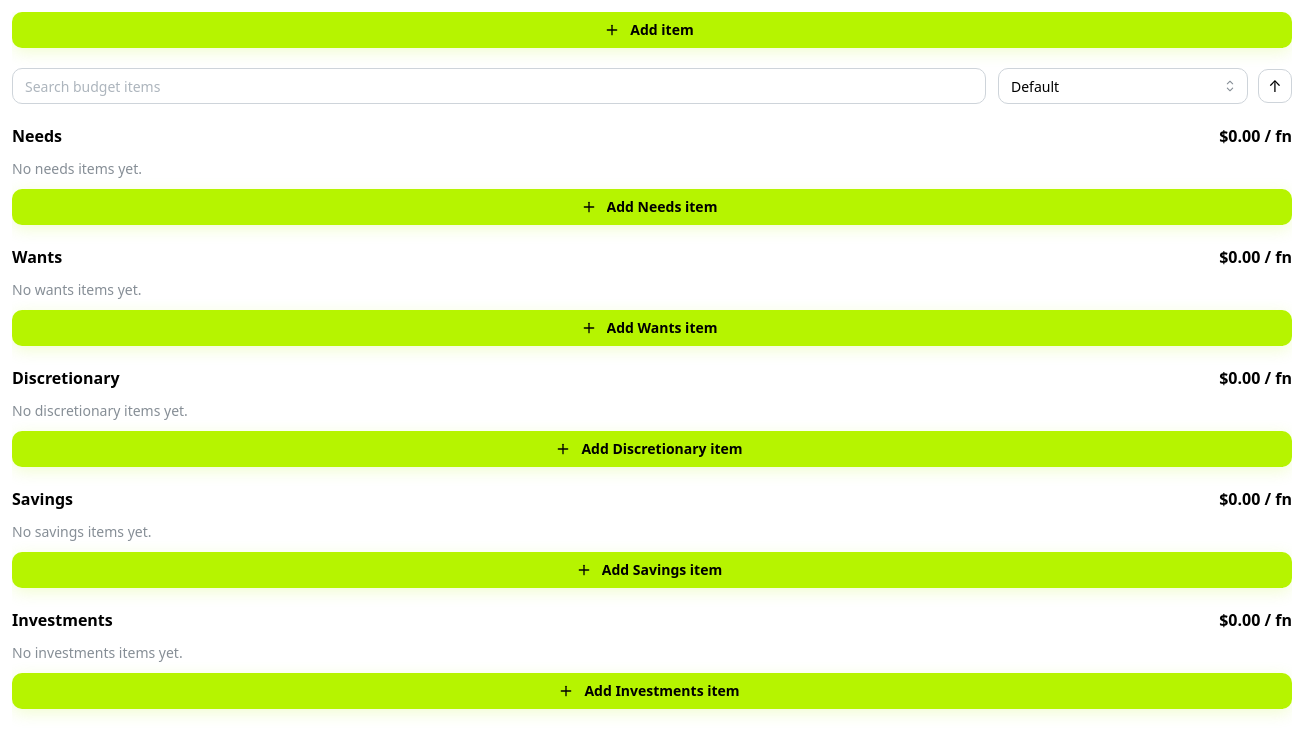
Scenario: BudgetLineList › opens a per-group add form scoped to that group
What coordinates should you click on to do the following:
click the button "Add Wants item"
I would click on:
 (652, 328)
Its box is [12,310,1292,346].
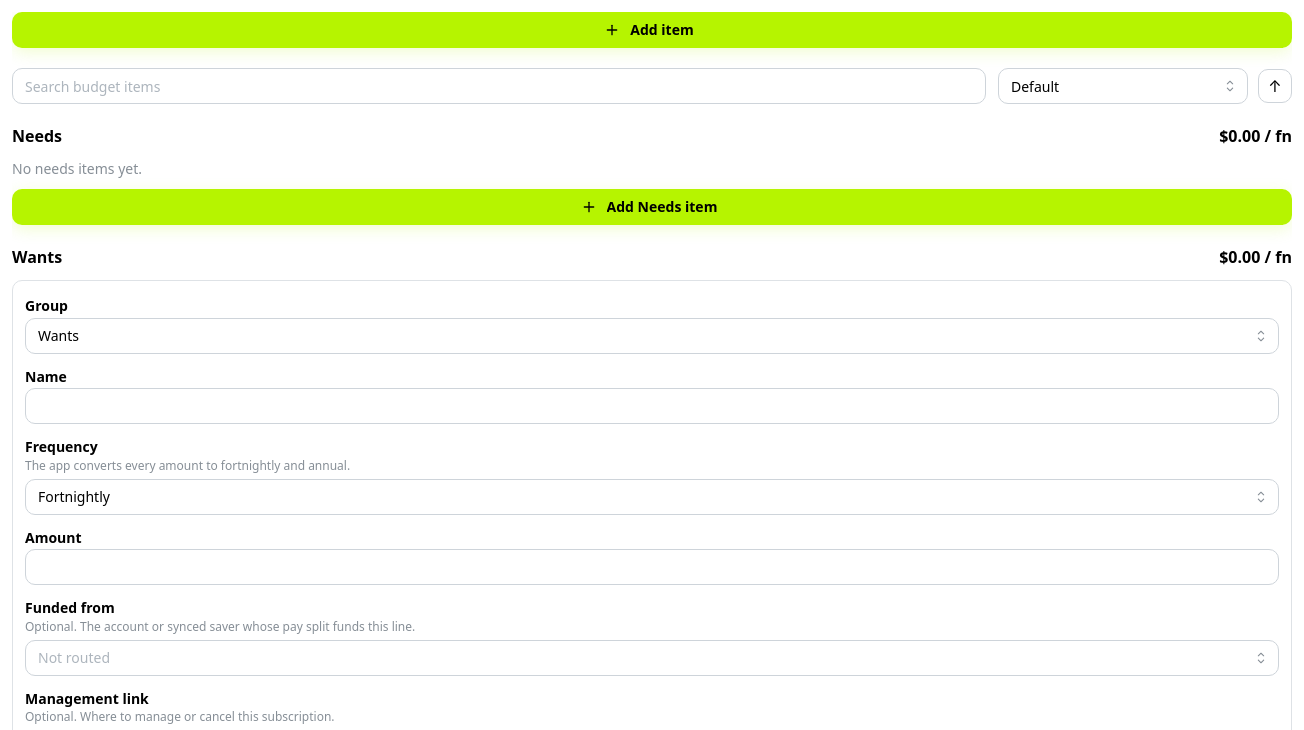
Expected: the dropdown labelled "Group" holds "Wants", [25,318,1279,354]
